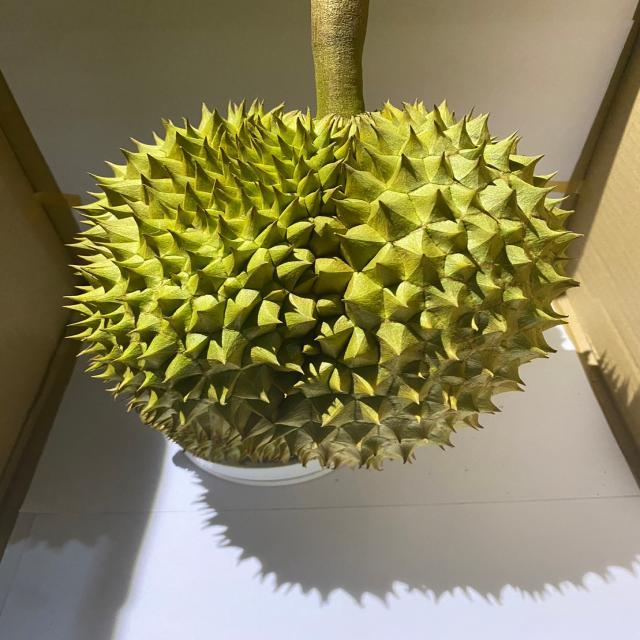immature: (63, 98, 583, 476)
